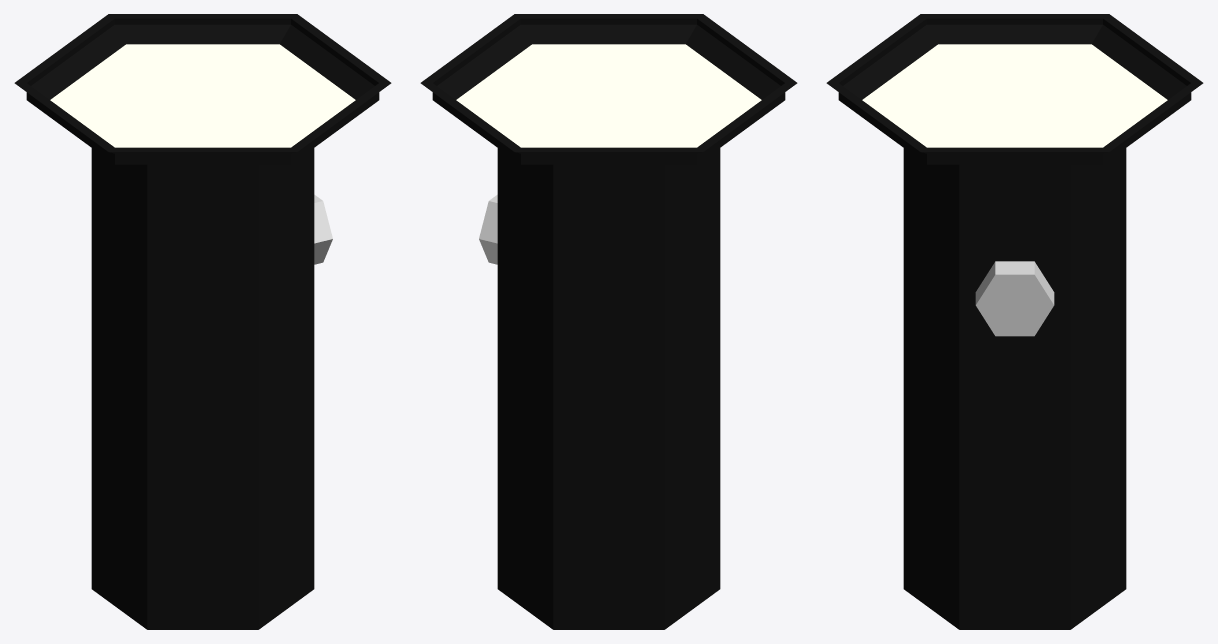
Rendered from flashlight.fbx .fbx.
3 renders of one model, left to right at view 1: azimuth 30°, elevation 25°; view 2: azimuth 150°, elevation 25°; view 3: azimuth 270°, elevation 25°, orthographic.
Parts seen in each view (by area): view 1: Cylinder, Cylinder.001; view 2: Cylinder, Cylinder.001; view 3: Cylinder, Cylinder.001.
Boxes of the visible parts, box(x1,y1,x2,y2) form: Cylinder: box(14, 14, 391, 629); Cylinder.001: box(314, 194, 332, 264); Cylinder: box(420, 14, 797, 629); Cylinder.001: box(479, 194, 497, 264); Cylinder: box(826, 14, 1203, 629); Cylinder.001: box(975, 261, 1054, 336).
Bounding box in the file's own units: 294 × 502 × 339.
